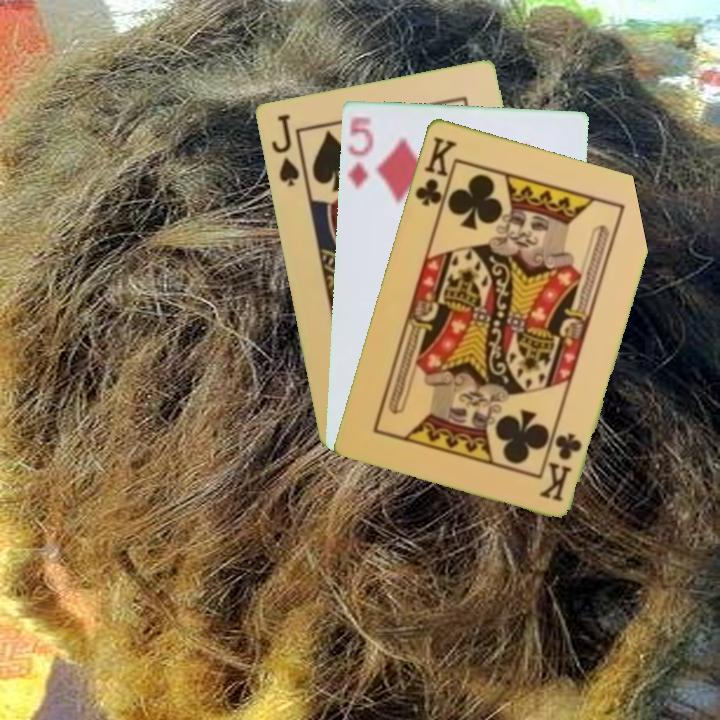5d: (343, 112, 376, 192)
Js: (267, 110, 302, 189)
Kc: (411, 132, 460, 216), (536, 429, 585, 504)
